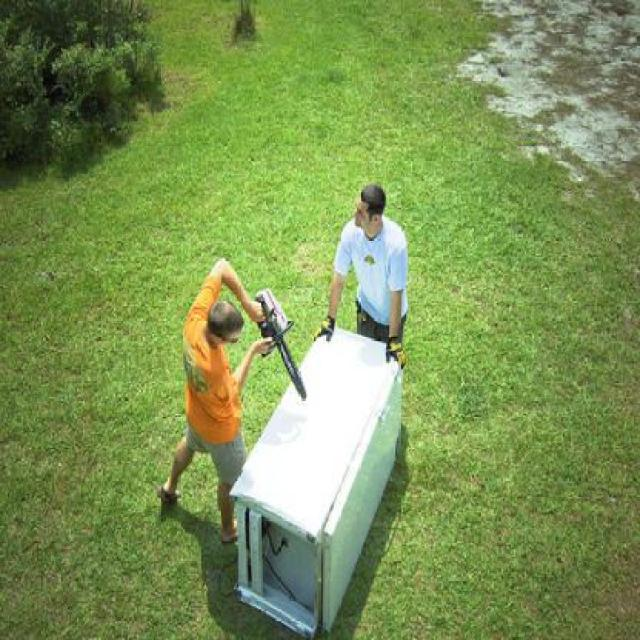Chainsaw: (252, 286, 311, 400)
